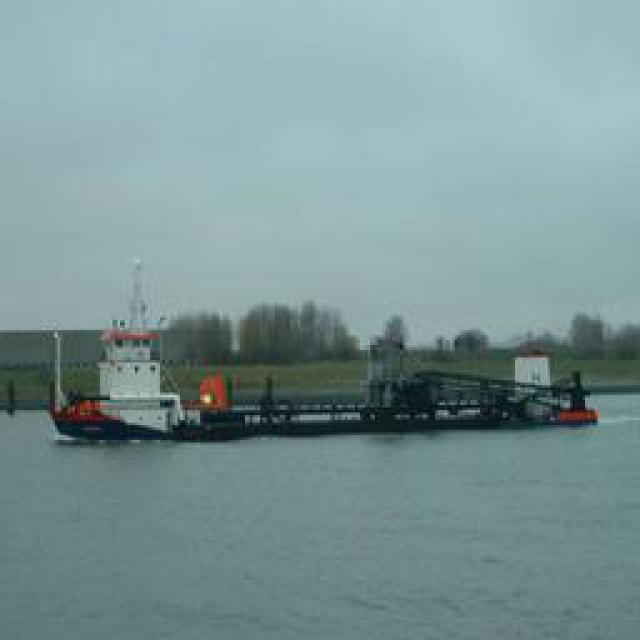Ship: (47, 263, 598, 449)
